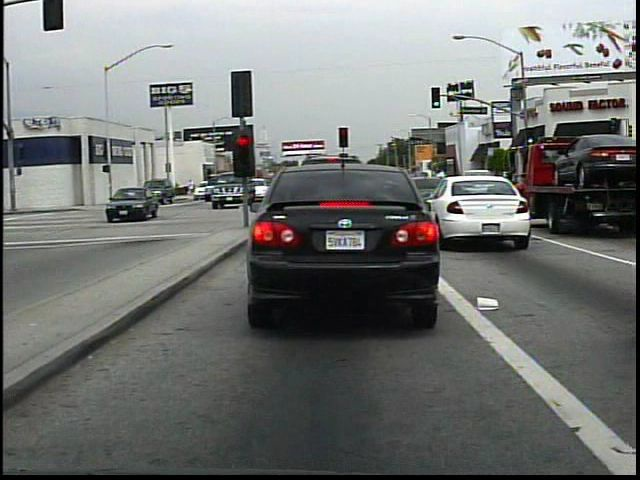person: (188, 175, 197, 201)
